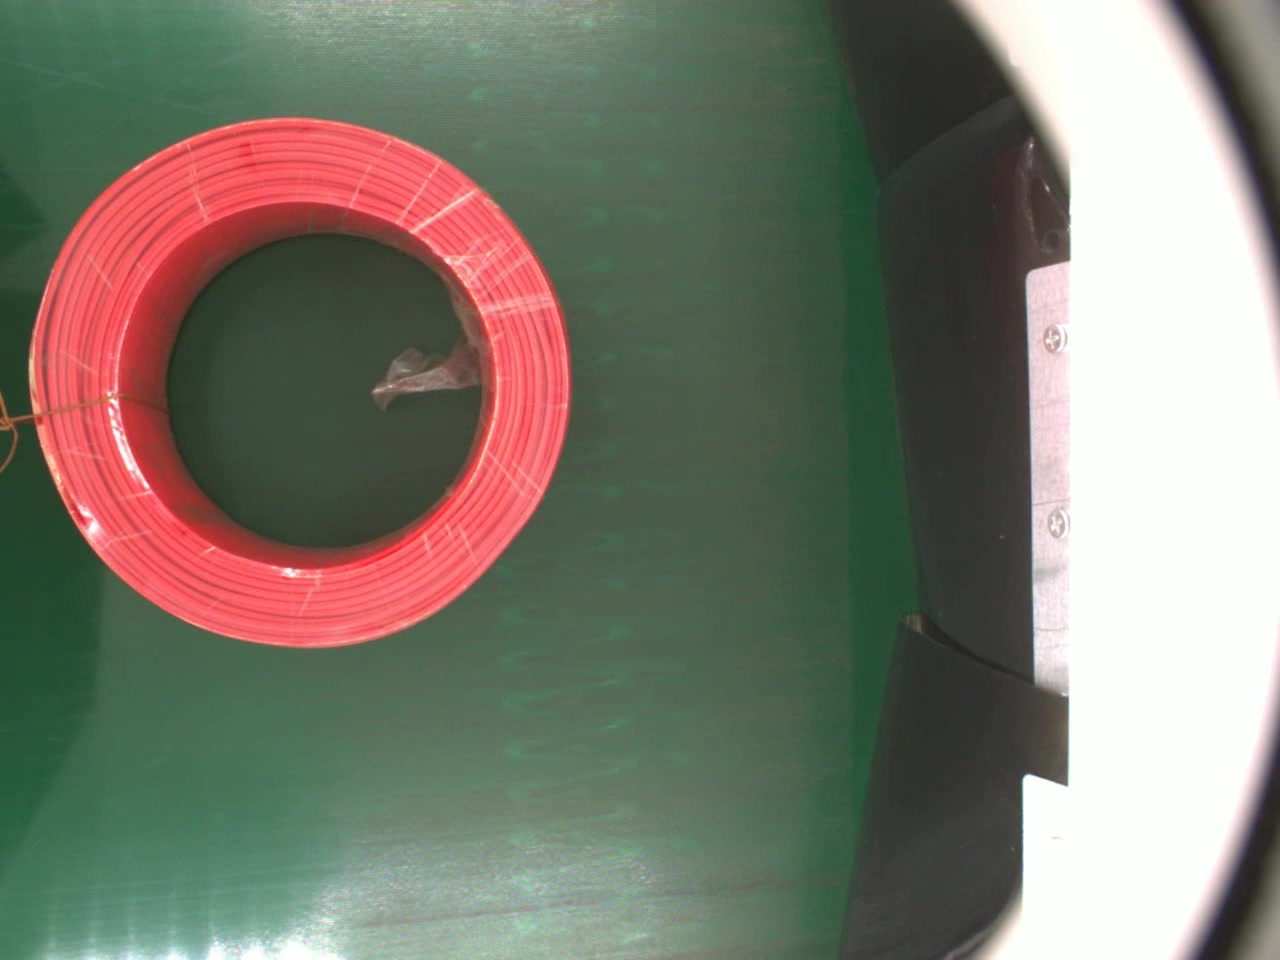red: (27, 115, 575, 656)
